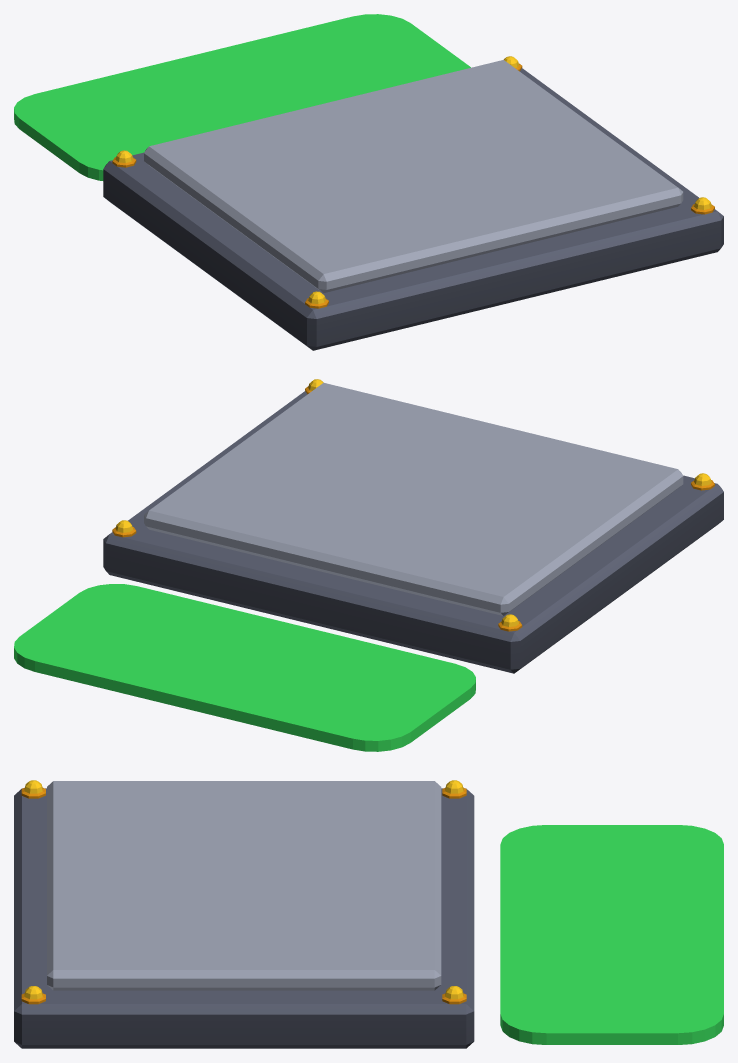
Rendered from MachineSlot.glb.
The picture shows the model from 3 angles, top to bottom: view 1: azimuth 30°, elevation 25°; view 2: azimuth 150°, elevation 25°; view 3: azimuth 270°, elevation 25°; orthographic projection. The views are drawn at different scales.
Visible parts, largest first — view 1: Pedestal, PedestalBase, Pad; view 2: Pedestal, Pad, PedestalBase; view 3: Pedestal, Pad, PedestalBase.
Boxes of the visible parts, bbox=[...] form: Pedestal: bbox=[144, 60, 683, 292]; PedestalBase: bbox=[103, 56, 723, 350]; Pad: bbox=[14, 14, 470, 180]; Pedestal: bbox=[144, 383, 683, 615]; Pad: bbox=[14, 584, 475, 751]; PedestalBase: bbox=[103, 379, 723, 673]; Pedestal: bbox=[47, 781, 441, 990]; Pad: bbox=[500, 825, 723, 1044]; PedestalBase: bbox=[14, 780, 474, 1048].
Size of the model in its own units: 8 by 1.1 by 10.8.
Materials: 3 (1 with a texture image).
